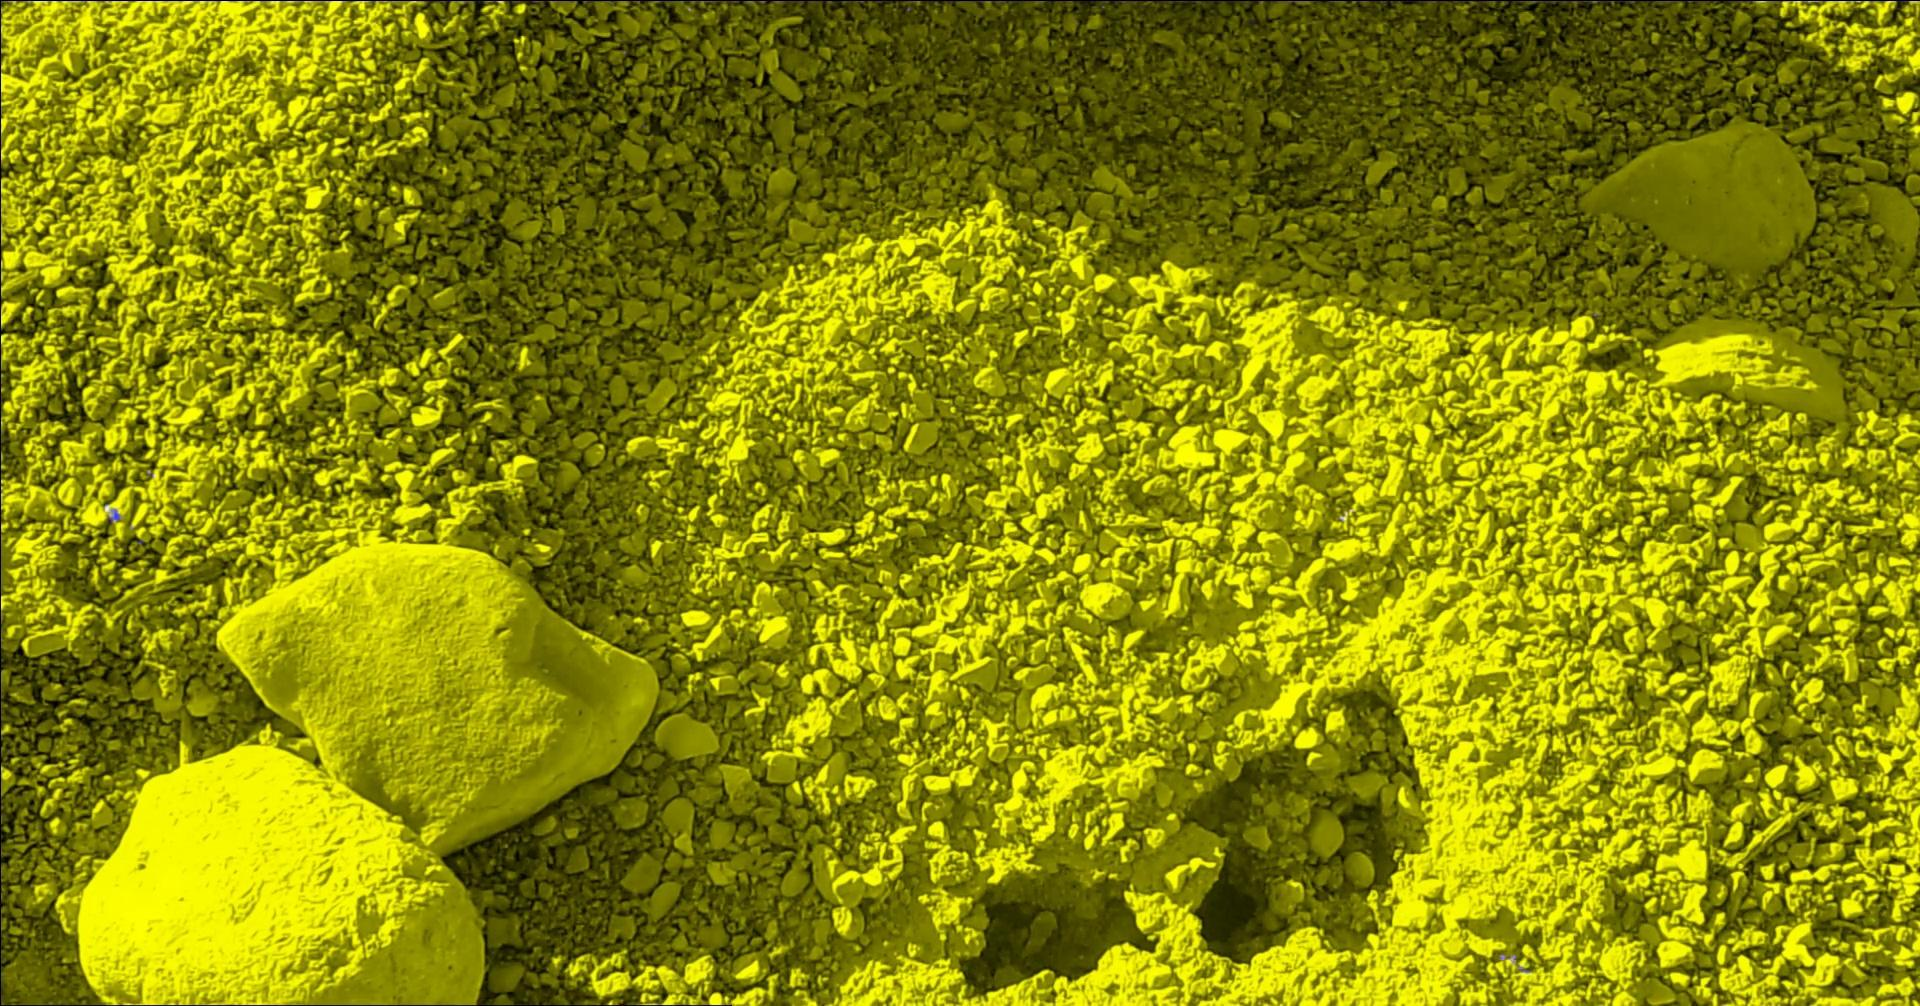ant: (1512, 0, 1614, 3), (957, 0, 1016, 1), (690, 0, 747, 1)
